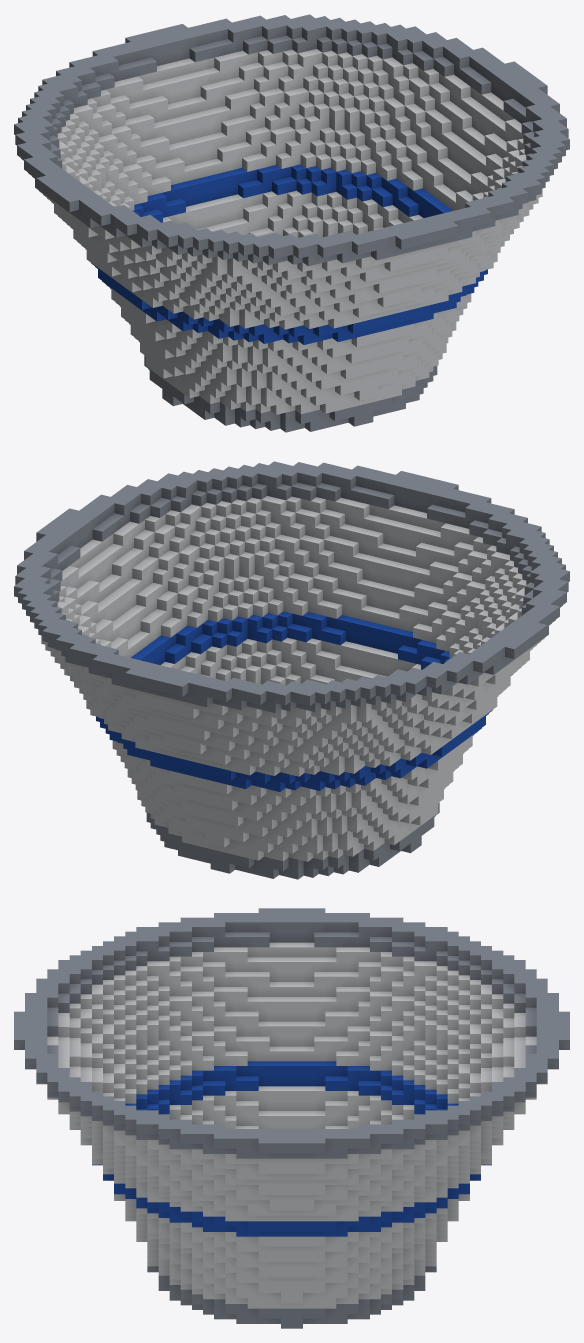
File: adapter_rev_ms.glb
3 views of the same model, one above another, from view 1: azimuth 30°, elevation 25°; view 2: azimuth 150°, elevation 25°; view 3: azimuth 270°, elevation 25° (orthographic).
Visible parts, largest first — view 1: adapter_rev_ms; view 2: adapter_rev_ms; view 3: adapter_rev_ms.
Boxes of the visible parts, bbox=[...] form: adapter_rev_ms: bbox=[14, 14, 569, 432]; adapter_rev_ms: bbox=[14, 461, 569, 879]; adapter_rev_ms: bbox=[14, 908, 569, 1328].
Size of the model in its own units: 2.5 by 1.2 by 2.5.
